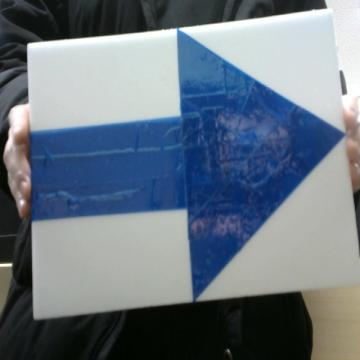blue_right: (33, 30, 342, 300)
